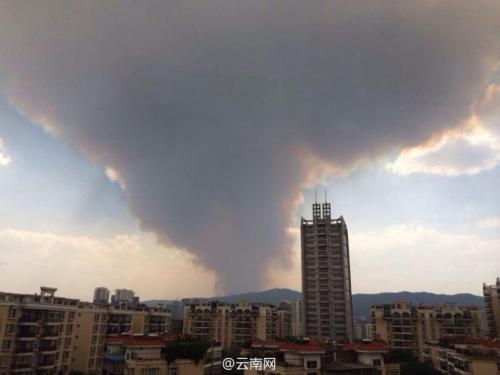smoke: (117, 2, 474, 246)
